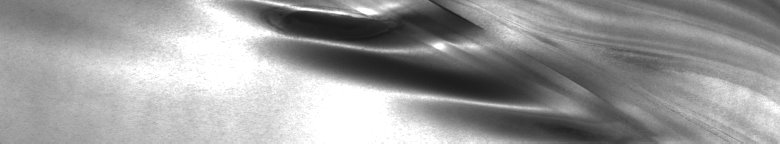ke: (210, 4, 776, 136)
